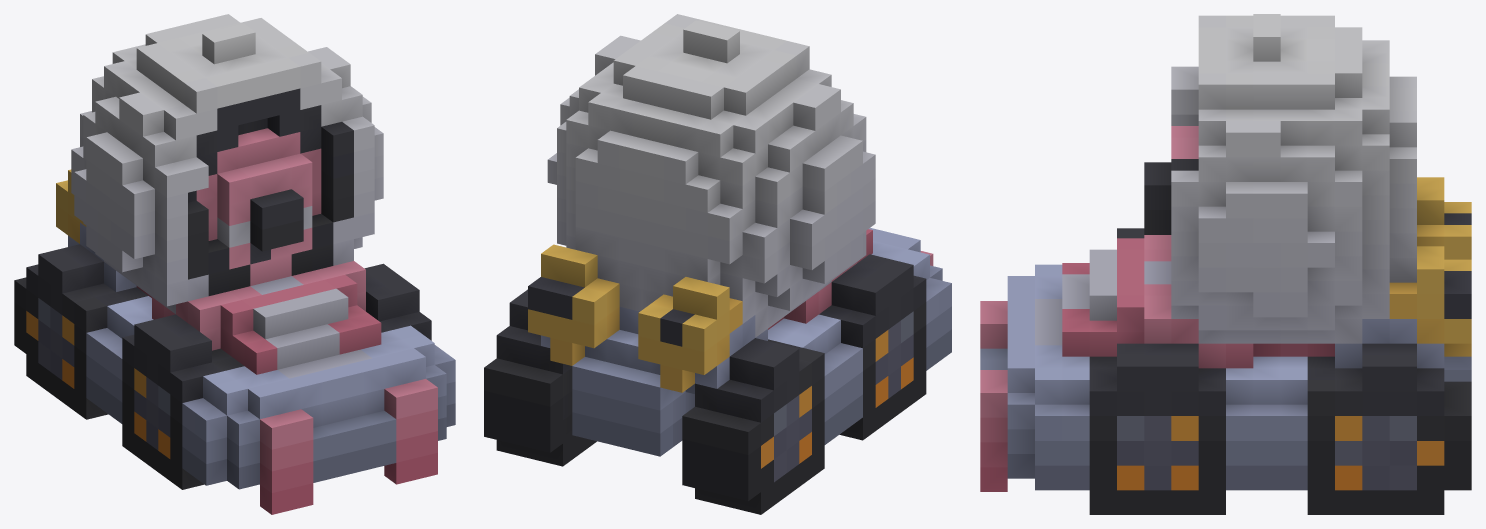
Rendered from kart_b.glb.
3 renders of one model, left to right at view 1: azimuth 30°, elevation 25°; view 2: azimuth 150°, elevation 25°; view 3: azimuth 270°, elevation 25°, orthographic. The views are drawn at different scales.
Visible parts, largest first — view 1: voxels; view 2: voxels; view 3: voxels.
Part boxes in pixels (box(x1,y1,x2,y2)): voxels: box(14, 14, 455, 514); voxels: box(484, 14, 951, 514); voxels: box(980, 14, 1471, 514).
Size of the model in its own units: 0.9969 by 1.41 by 1.5.
